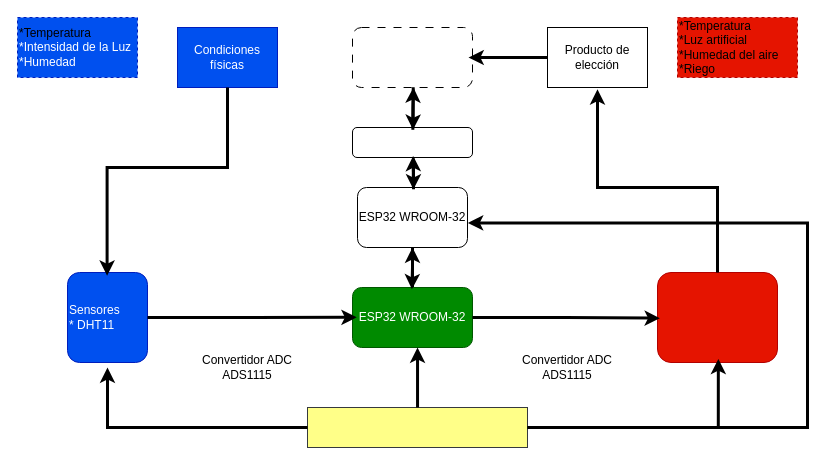
This 834x465 diagram has some shape labels left out. Each missing label, with the box of its shape:
Actuadores * Rociadores * Humidificadores * Luz artificial * Calefacción: (656, 272, 778, 362)
Fuente corriente de electricidad: (306, 406, 528, 448)
Interfaz: (352, 126, 472, 158)
Usuario-Agricultor: (352, 26, 472, 88)
